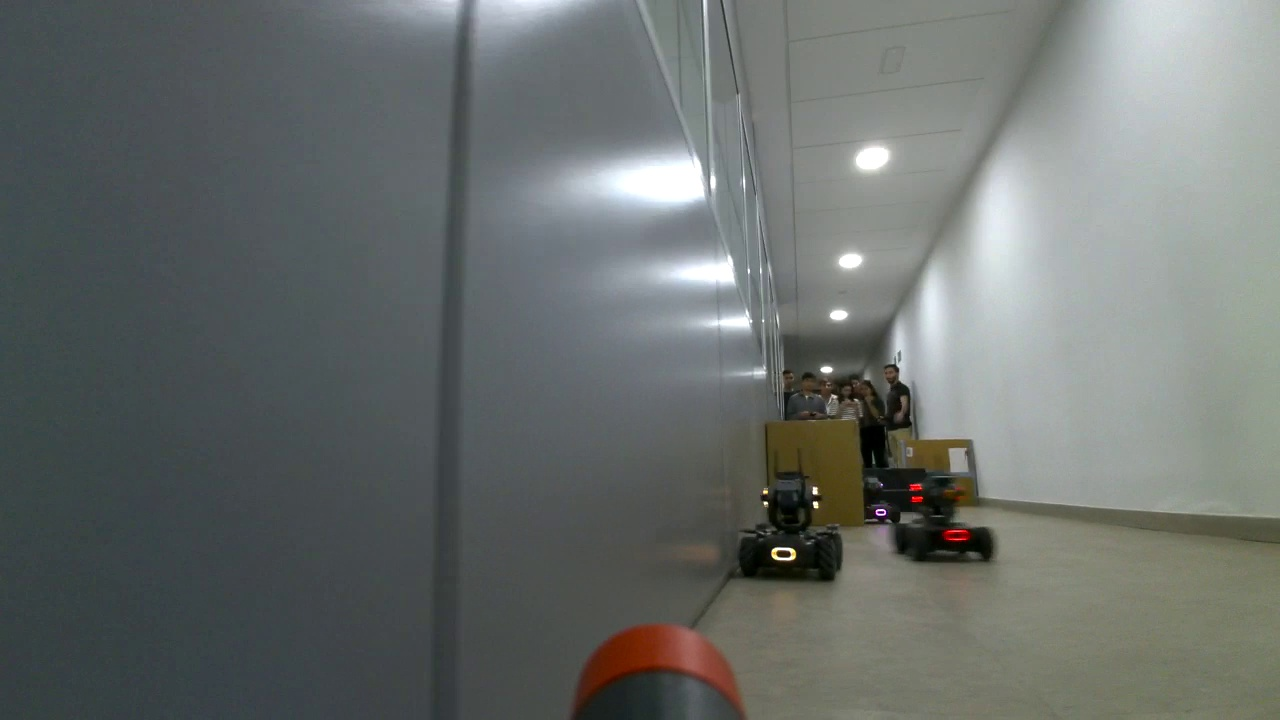robot: (738, 469, 844, 583), (893, 476, 995, 565)
